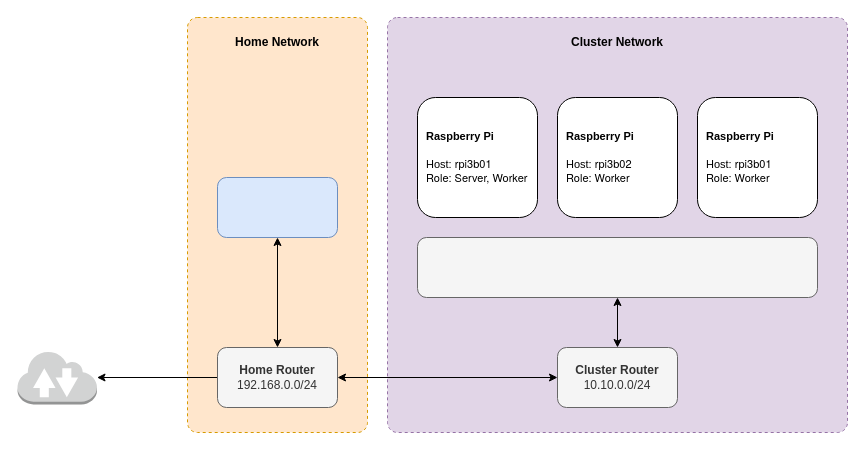
Image size: 865x458. Some labels were removed from this diagram. The shapes that lost their labels are listed below. From the top down, each one's box as (x1, y1, x2, y2) in pixels, then its label:
(216, 176, 338, 238): Dev Laptop
(416, 236, 818, 298): Network Switch (L2)
(16, 350, 97, 404): Internet (Public)
